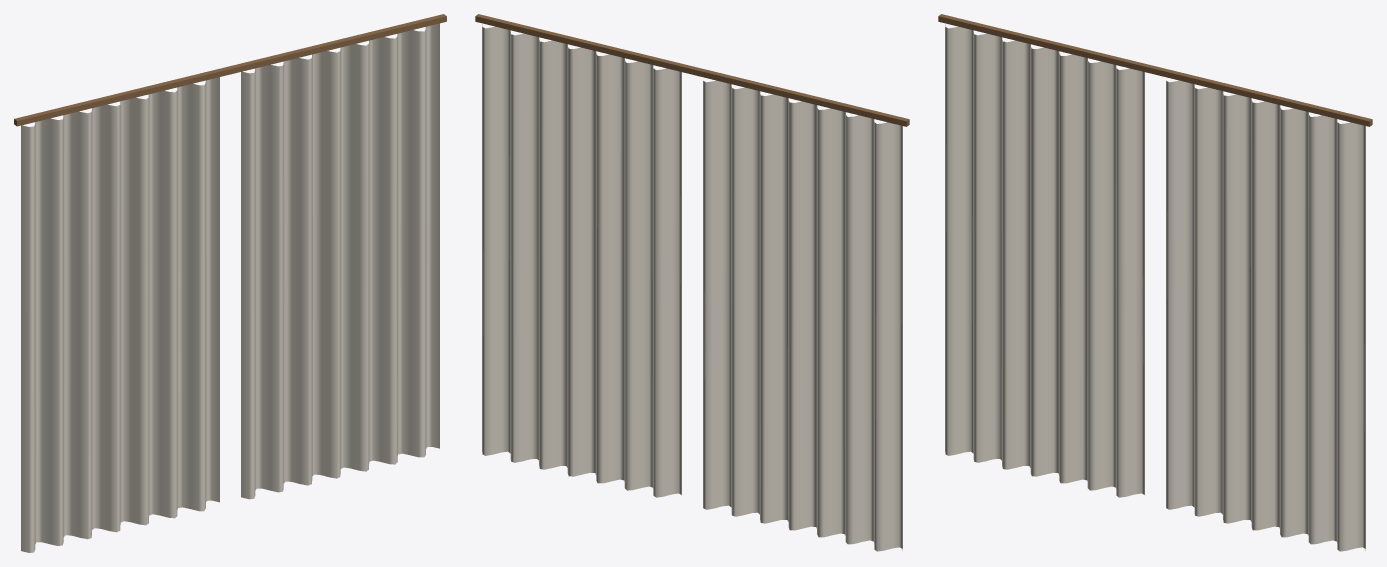
The model's file is roompilot-curtain.glb.
3 renders of one model, left to right at view 1: azimuth 30°, elevation 25°; view 2: azimuth 150°, elevation 25°; view 3: azimuth 330°, elevation 25°, orthographic.
Visible parts, largest first — view 1: roompilot_auto_curtain; view 2: roompilot_auto_curtain; view 3: roompilot_auto_curtain.
Part boxes in pixels (x1=…): roompilot_auto_curtain: x1=14, y1=14, x2=446, y2=552; roompilot_auto_curtain: x1=475, y1=14, x2=909, y2=551; roompilot_auto_curtain: x1=938, y1=14, x2=1372, y2=551.
Size of the model in its own units: 2.46 by 2.36 by 0.1.
